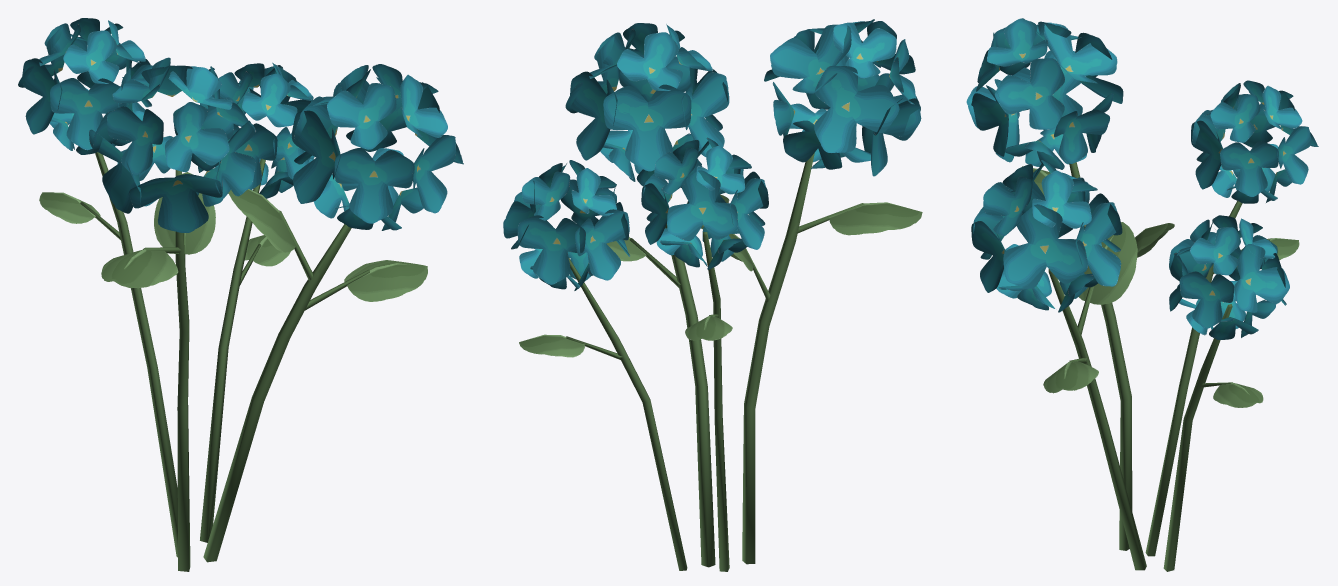
Rendered from flowers_blue.glb.
The picture shows the model from 3 angles, left to right: view 1: azimuth 30°, elevation 25°; view 2: azimuth 150°, elevation 25°; view 3: azimuth 270°, elevation 25°; orthographic projection. The views are drawn at different scales.
Parts seen in each view (by area): view 1: Flower_1_Clump; view 2: Flower_1_Clump; view 3: Flower_1_Clump.
Part boxes in pixels (x1,y1,x2,y2): Flower_1_Clump: [18, 18, 463, 571]; Flower_1_Clump: [503, 19, 922, 571]; Flower_1_Clump: [966, 18, 1318, 571].
Size of the model in its own units: 0.4711 by 0.6713 by 0.4352.
1 material, 1 textured.
